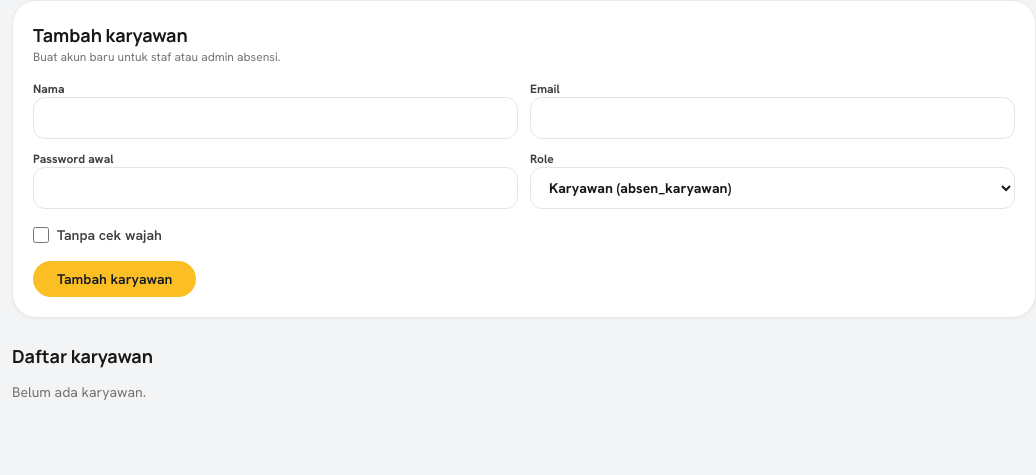
Scenario: KaryawanTab › email sudah dipakai → pesan dari messageFor
Type "Sari Dewi" into the field labelled "Nama" at (276, 118), box [33,97,518,139]
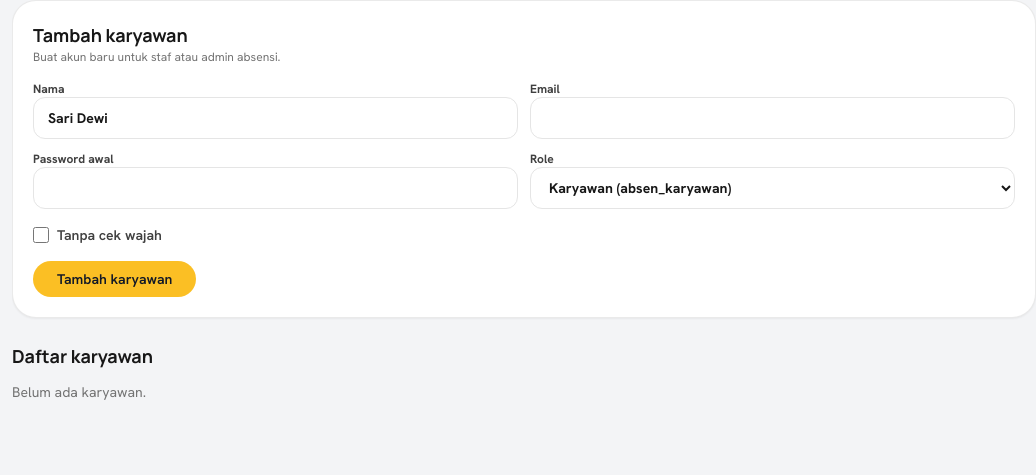
Type "sari@absen.alumana.id" into the field labelled "Email" at (772, 118), box [530,97,1015,139]
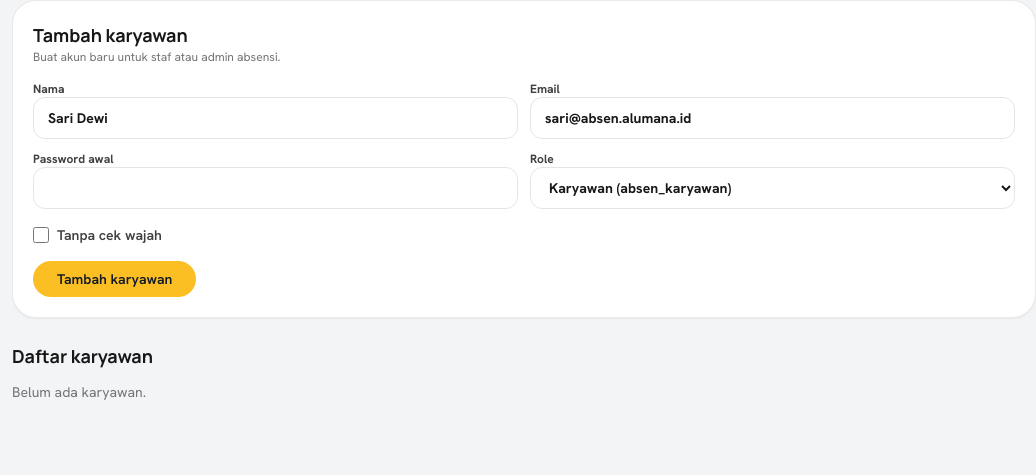
Type "rahasia123" into the field labelled "Password awal" at (276, 188), box [33,167,518,209]
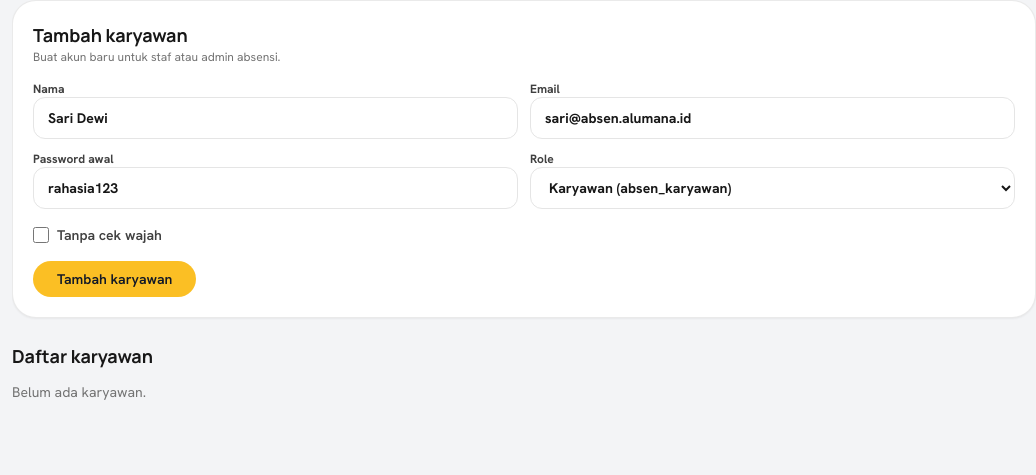
Click the button "Tambah karyawan" at (115, 279), box [33,261,196,297]
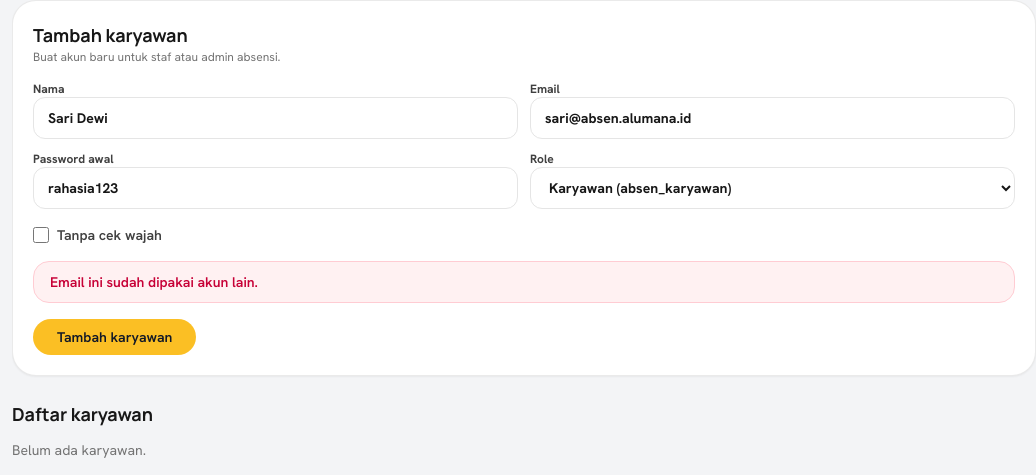
expect the text "Email ini sudah dipakai akun lain." is shown: met, box [33,261,1015,303]
